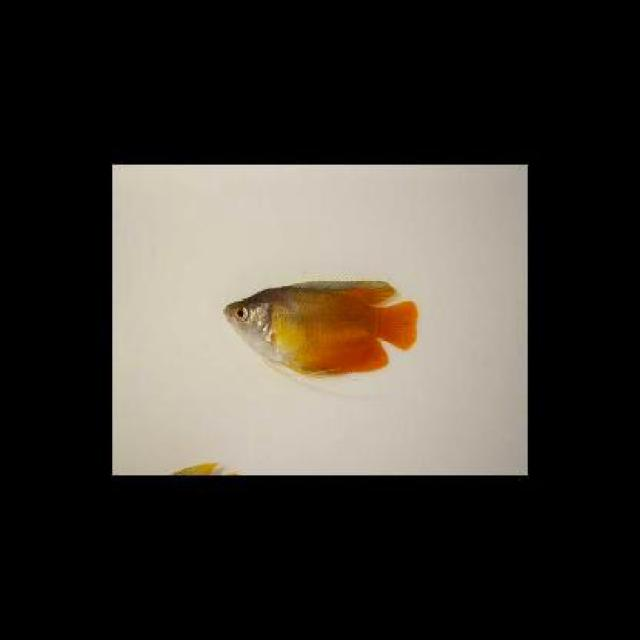Gourami: (220, 272, 423, 380)
